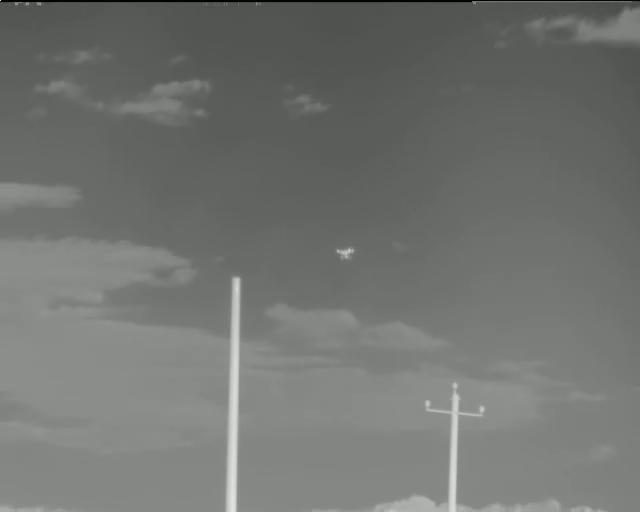uav: (335, 246, 355, 263)
